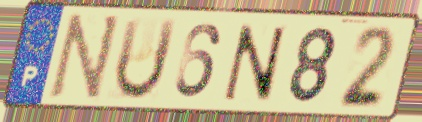2: (338, 24, 399, 110)
6: (174, 21, 224, 102)
8: (287, 25, 339, 106)
N: (45, 12, 124, 105), (221, 22, 287, 105)
U: (111, 17, 180, 104)
